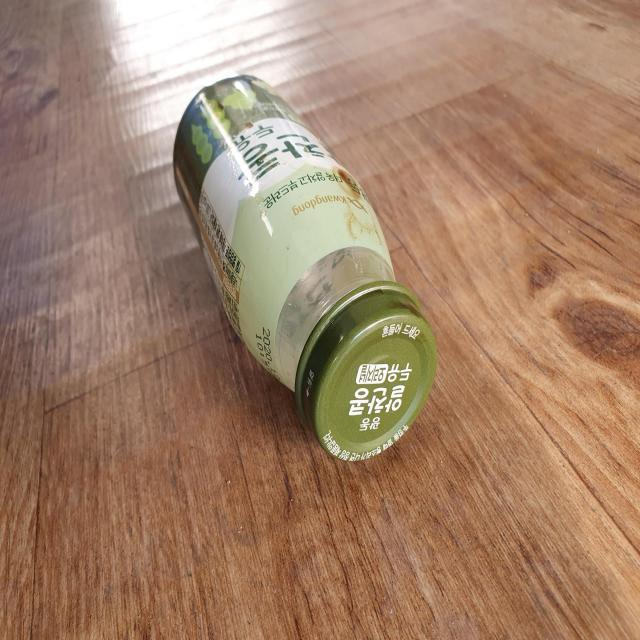glass: (173, 74, 437, 462)
